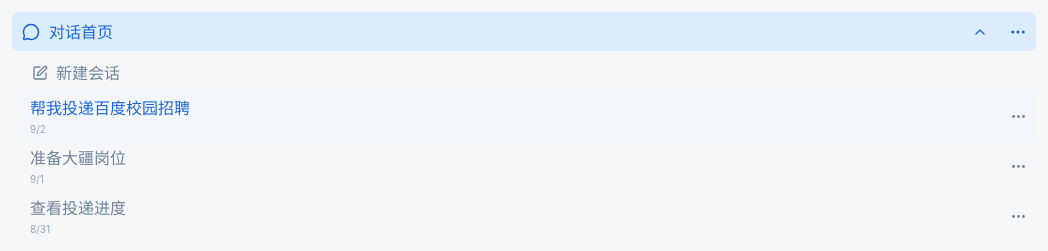
Test case: ConversationNavigation › opens top and row menus with their scoped destructive action
Click the button named "对话首页更多操作": click(1018, 32) [1000,12,1036,51]
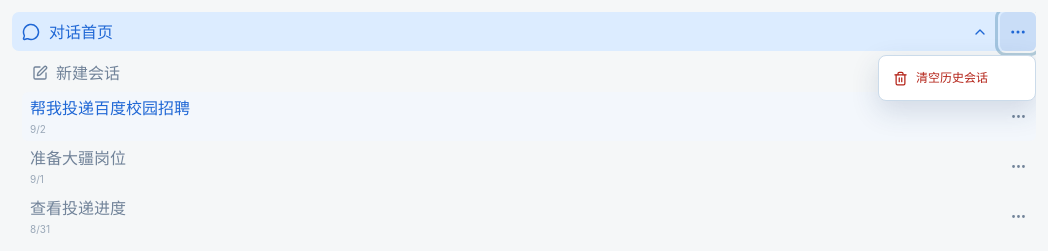
Now the menu reads "清空历史会话", box [884,61,1030,95]
Click the button named "会话操作：帮我投递百度校园招聘": click(1018, 116) [1000,92,1036,141]
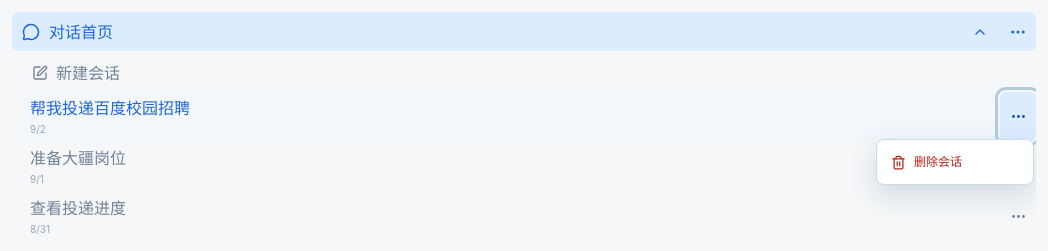
Now the menu reads "删除会话", box [882,145,1028,179]
